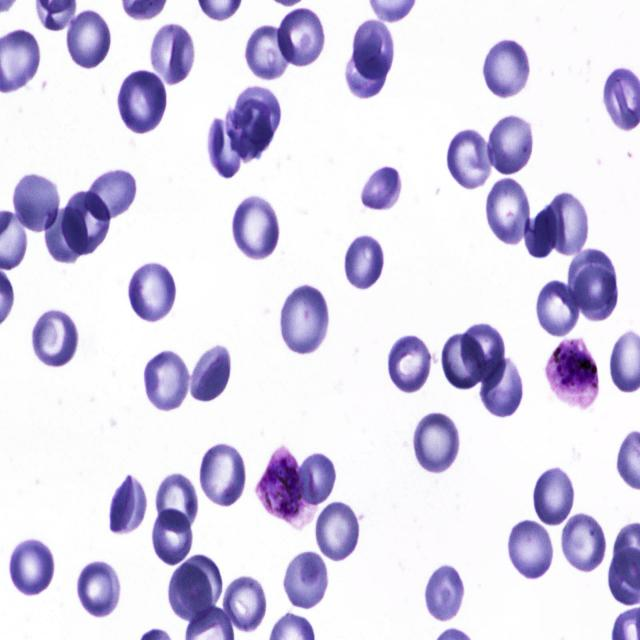red blood cell: (278, 281, 332, 359), (116, 67, 168, 136), (230, 192, 282, 261), (126, 261, 180, 326), (506, 516, 558, 582), (412, 407, 461, 476), (12, 170, 64, 235), (478, 351, 526, 421), (482, 36, 532, 102), (197, 442, 247, 508), (569, 247, 619, 312), (141, 346, 190, 412), (458, 320, 507, 385), (276, 7, 328, 68), (484, 178, 532, 244), (313, 500, 364, 562), (31, 306, 80, 370), (282, 548, 332, 610), (559, 511, 607, 575), (486, 114, 536, 175), (64, 7, 112, 70), (174, 554, 223, 615), (9, 534, 56, 597), (531, 463, 577, 527), (234, 85, 282, 146), (84, 168, 138, 222), (246, 20, 293, 82), (227, 99, 274, 161), (64, 190, 108, 256), (186, 343, 233, 404), (384, 334, 430, 396), (76, 559, 122, 620), (448, 127, 492, 190), (545, 192, 587, 258), (168, 564, 214, 623), (574, 262, 618, 323), (152, 26, 194, 89), (344, 43, 388, 102), (352, 20, 395, 80), (44, 206, 90, 262), (156, 474, 198, 535), (537, 278, 578, 339), (108, 475, 148, 537), (424, 563, 466, 621), (224, 574, 266, 632), (343, 233, 385, 290), (441, 332, 482, 390), (152, 507, 193, 564), (358, 164, 403, 214), (210, 114, 244, 180), (299, 453, 336, 506), (524, 203, 558, 260)
schizont: (253, 446, 316, 529), (543, 339, 604, 408)
